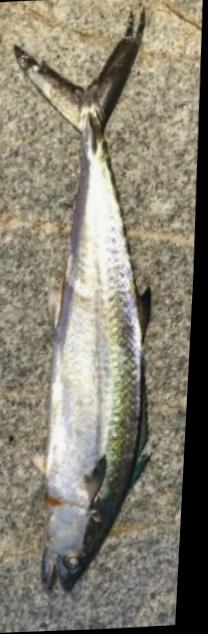fish: (14, 8, 156, 592)
